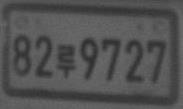2: (125, 38, 145, 83), (34, 34, 54, 77)
7: (101, 38, 122, 81), (147, 40, 166, 84)
8: (12, 33, 32, 77)
9: (79, 37, 99, 79)
루: (55, 43, 75, 79)
